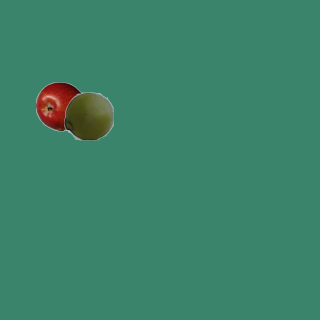Apple Braeburn: (35, 81, 85, 131)
Grape White 4: (63, 90, 113, 140)
